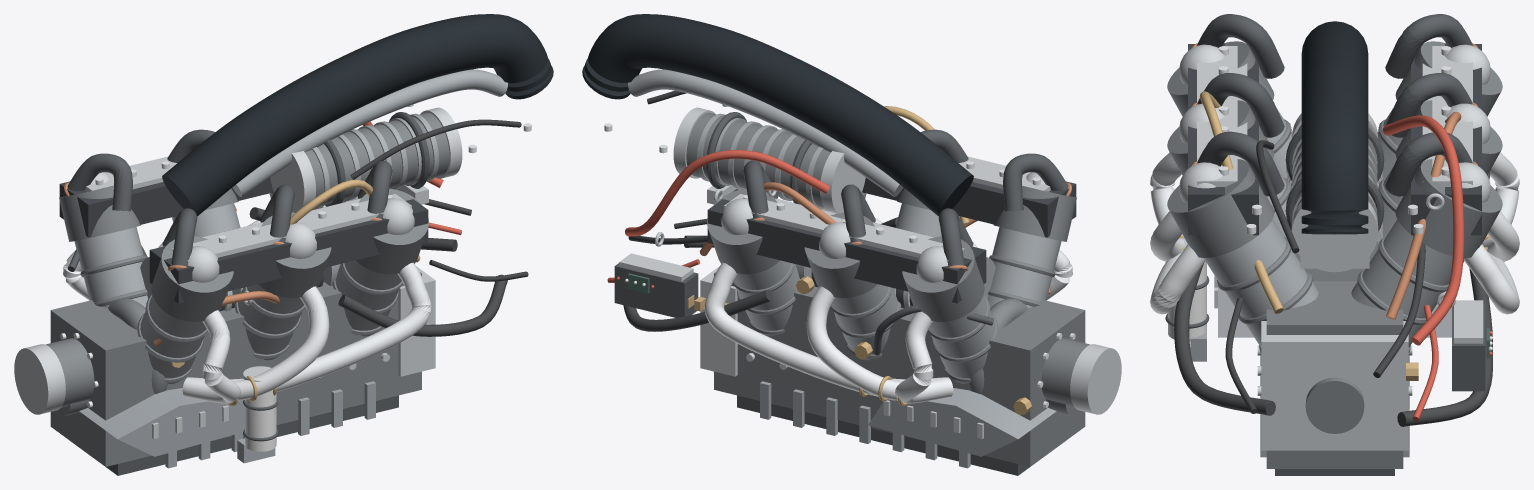
The model's file is engine.glb.
3 views of the same model, side by side, from view 1: azimuth 30°, elevation 25°; view 2: azimuth 150°, elevation 25°; view 3: azimuth 270°, elevation 25° (orthographic). The views are drawn at different scales.
Visible parts, largest first — view 1: Sculpted carbon intake spine, Central cast engine crankcase, Sump cooling rib -1 1, right bank exhaust primary 1, Intake spine inner metallic tube, right bank cylinder head 1, Turbo centre shaft, right bank cam / valve cap 1, right bank long valve cover, Upper intake boost canister, right bank intake runner 1, Turbo turbine outer housing (+14 smaller); view 2: Sculpted carbon intake spine, Central cast engine crankcase, Sump cooling rib -1 1, left bank exhaust primary 1, left bank cylinder head 1, Intake spine inner metallic tube, Turbo centre shaft, left bank cam / valve cap 1, left bank long valve cover, Upper intake boost canister, Turbo actuator line, left bank intake runner 1 (+17 smaller); view 3: Front timing cover, Sculpted carbon intake spine, Central cast engine crankcase, Sump cooling rib -1 1, right bank cylinder head 1, right bank intake runner 1, left bank intake runner 1, left bank cylinder head 1, Front coolant return, right bank cam / valve cap 1, left bank cam / valve cap 1, left bank exhaust primary 1 (+18 smaller).
Boxes of the visible parts, box(x1,y1,x2,y2) form: Sculpted carbon intake spine: box(162, 14, 553, 216); Central cast engine crankcase: box(50, 255, 421, 466); Sump cooling rib -1 1: box(74, 192, 401, 468); right bank exhaust primary 1: box(182, 262, 431, 403); Intake spine inner metallic tube: box(232, 69, 507, 208); right bank cylinder head 1: box(151, 188, 428, 321); Turbo centre shaft: box(79, 388, 244, 456); right bank cam / valve cap 1: box(171, 194, 414, 282); right bank long valve cover: box(149, 189, 428, 303); Upper intake boost canister: box(305, 112, 449, 204); right bank intake runner 1: box(162, 160, 392, 266); Turbo turbine outer housing: box(46, 298, 167, 407); Sculpted carbon intake spine: box(582, 14, 973, 216); Central cast engine crankcase: box(714, 255, 1085, 466); Sump cooling rib -1 1: box(734, 192, 1061, 468); left bank exhaust primary 1: box(704, 262, 953, 403); left bank cylinder head 1: box(707, 188, 984, 321); Intake spine inner metallic tube: box(628, 69, 903, 208); Turbo centre shaft: box(868, 388, 1056, 456); left bank cam / valve cap 1: box(721, 194, 964, 282); left bank long valve cover: box(707, 189, 986, 303); Upper intake boost canister: box(686, 112, 830, 207); Turbo actuator line: box(614, 263, 993, 355); left bank intake runner 1: box(743, 160, 973, 266); Front timing cover: box(1214, 275, 1412, 450); Sculpted carbon intake spine: box(1301, 21, 1368, 234); Central cast engine crankcase: box(1217, 119, 1448, 468); Sump cooling rib -1 1: box(1205, 108, 1464, 457); right bank cylinder head 1: box(1167, 41, 1274, 258); right bank intake runner 1: box(1196, 14, 1284, 196); left bank intake runner 1: box(1385, 14, 1473, 196); left bank cylinder head 1: box(1395, 41, 1502, 258); Front coolant return: box(1174, 263, 1492, 426); right bank cam / valve cap 1: box(1179, 44, 1247, 202); left bank cam / valve cap 1: box(1422, 44, 1490, 202); left bank exhaust primary 1: box(1464, 152, 1519, 314).
Bounding box in the file's own units: 1.07 × 0.6905 × 0.5354.
